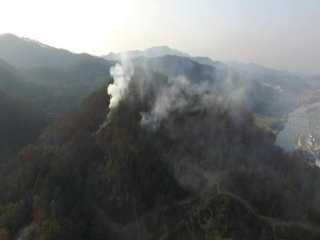smoke: (96, 54, 274, 143)
